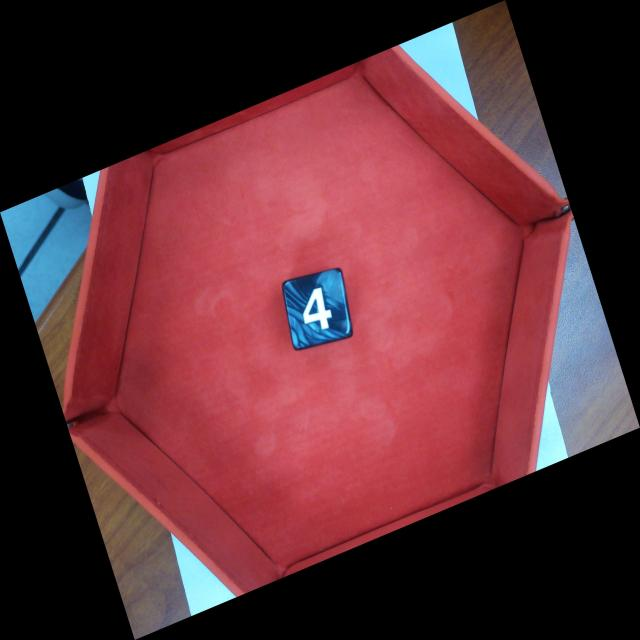dice: (279, 266, 355, 353)
